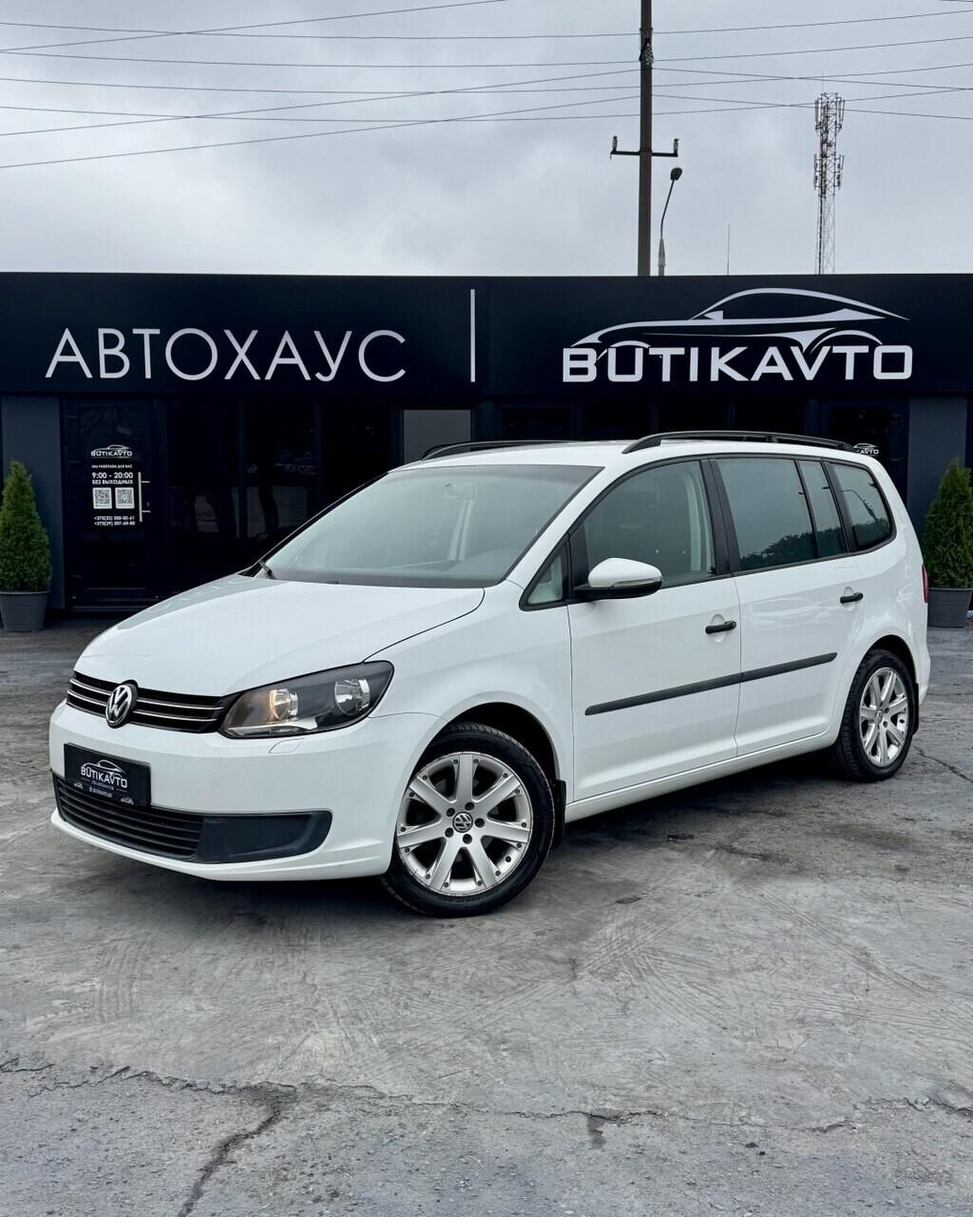Touran_2010-2015: (36, 429, 941, 925)
